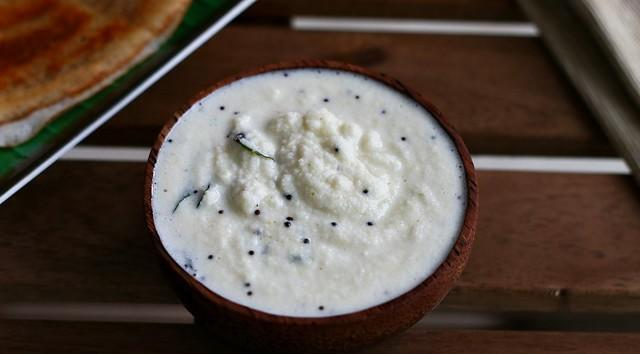CoconutChutney: (153, 70, 465, 316)
